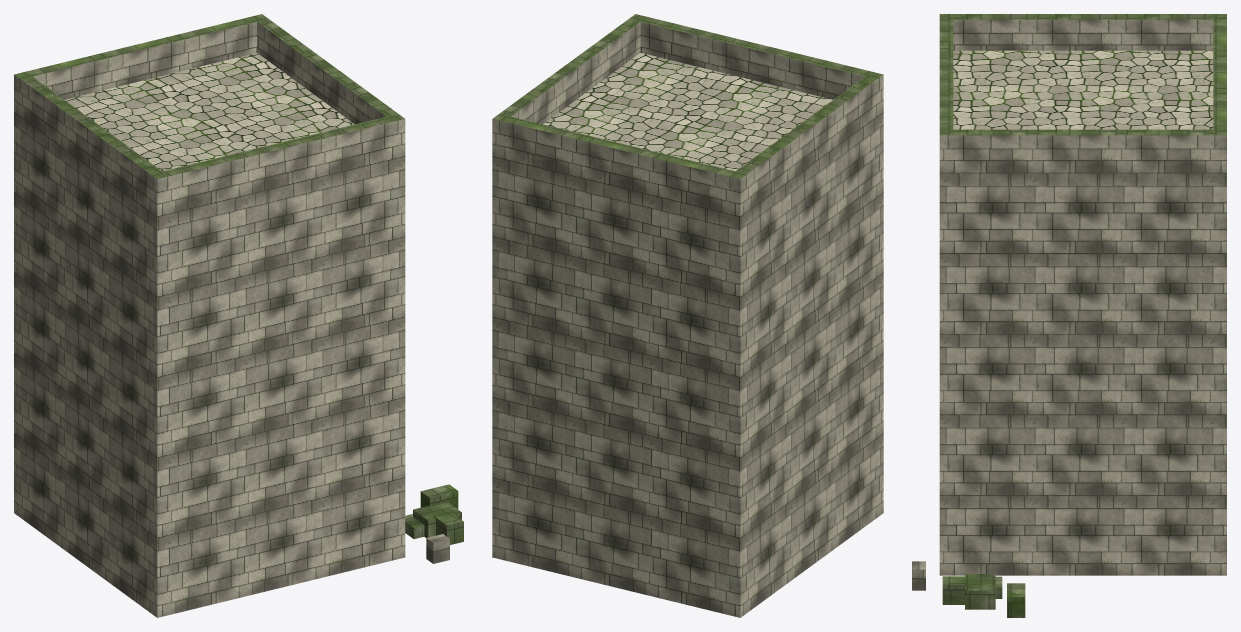
Rendered from ruin-tower.ruins-v3.lod1.glb.
The picture shows the model from 3 angles, left to right: view 1: azimuth 30°, elevation 25°; view 2: azimuth 150°, elevation 25°; view 3: azimuth 270°, elevation 25°; orthographic projection.
Parts seen in each view (by area): view 1: ruin-tower; view 2: ruin-tower; view 3: ruin-tower.
Boxes of the visible parts, x1,y1,x2,y2 form: ruin-tower: [14, 14, 463, 617]; ruin-tower: [492, 14, 883, 617]; ruin-tower: [912, 14, 1226, 617].
Bounding box in the file's own units: 11.33 × 14.2 × 9.21.
3 materials, 3 textured.
